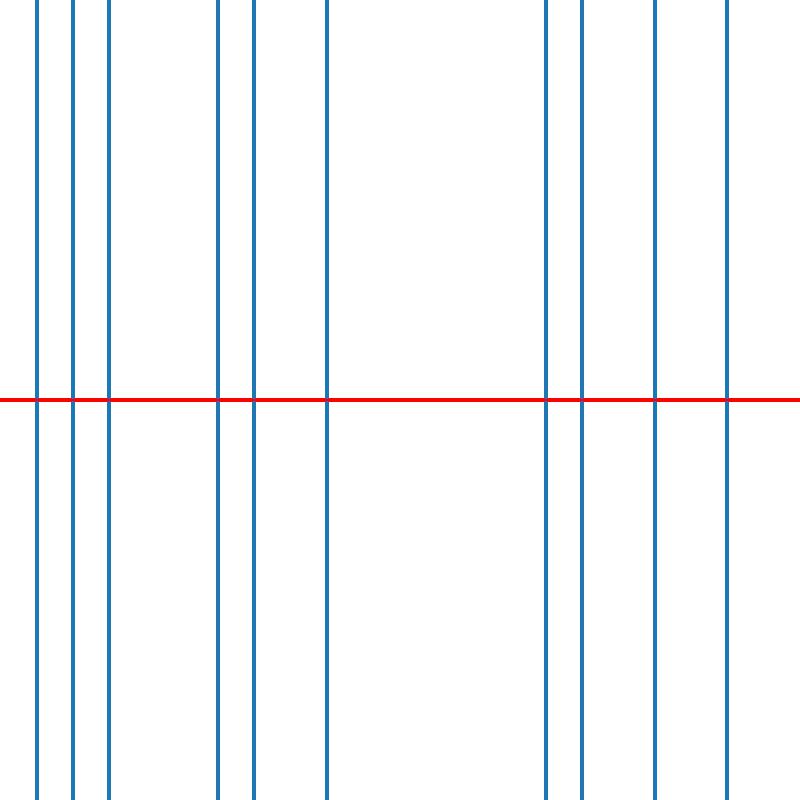root: (541, 396, 549, 404), (32, 396, 40, 404), (650, 396, 658, 404), (250, 396, 258, 404), (323, 396, 330, 404), (723, 396, 730, 404), (69, 396, 76, 404), (105, 396, 112, 404), (578, 396, 585, 404), (214, 396, 221, 404)
